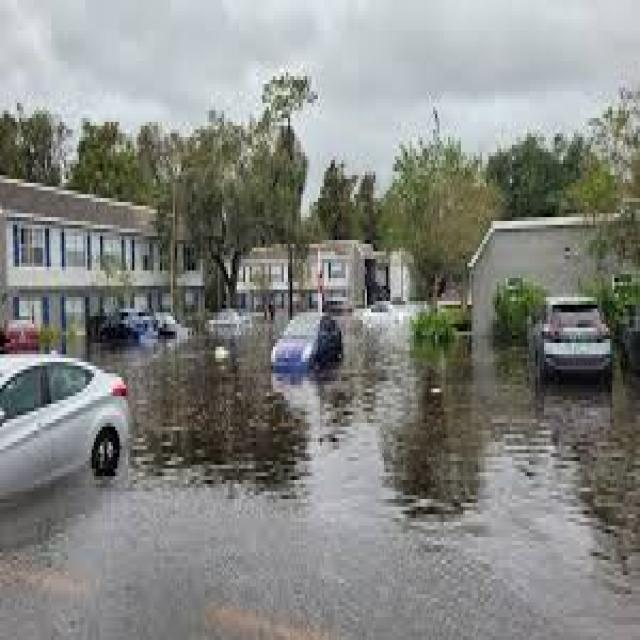Hurricane: (150, 175, 628, 567)
